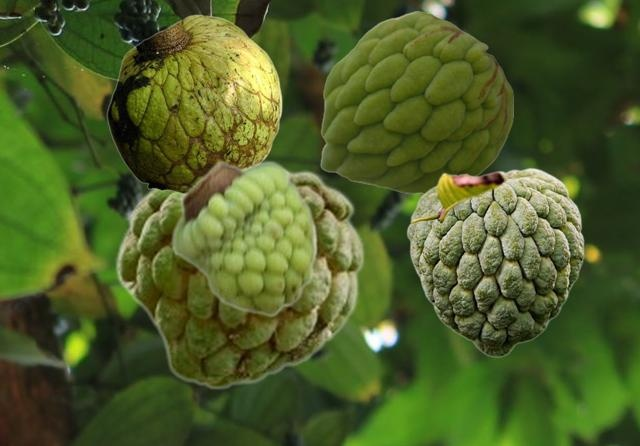atis: (113, 167, 364, 389), (320, 11, 512, 195), (406, 167, 583, 356), (106, 14, 281, 193), (171, 159, 317, 317)
